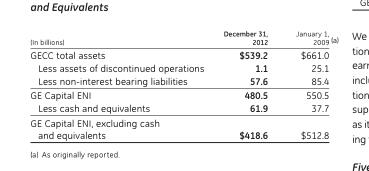table: (29, 28, 337, 140)
table column: (29, 28, 212, 140), (212, 28, 281, 140), (281, 28, 337, 140)
table column header: (29, 28, 337, 47)
table row: (29, 115, 337, 140), (29, 28, 337, 47), (29, 47, 337, 61), (29, 87, 337, 101), (29, 101, 337, 115), (29, 61, 337, 74), (29, 74, 337, 87)
